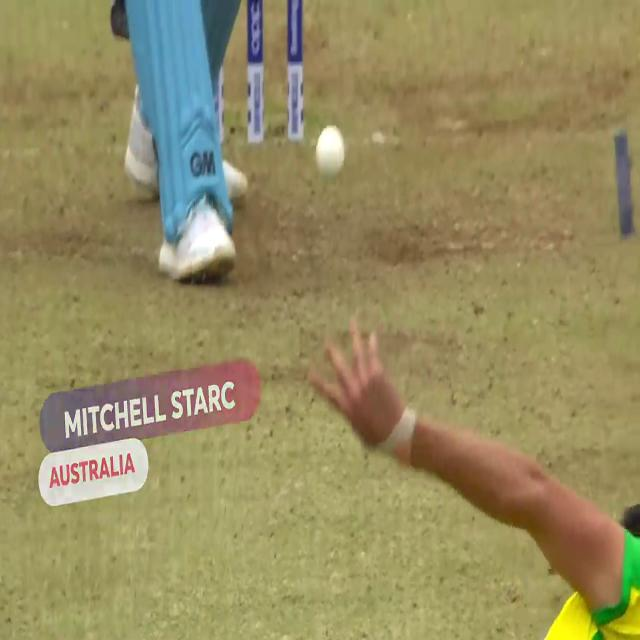ball: (313, 118, 351, 183)
